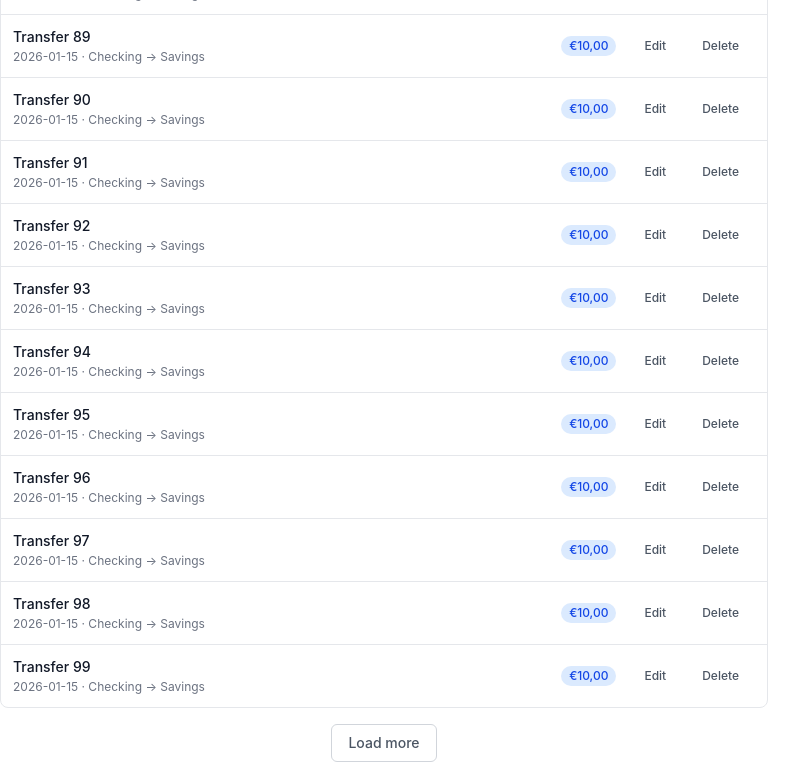
Test: TransfersPage loads additional transfer pages on demand
(page scrolled)
Check: the text "Last transfer" is not shown
Click the button "Load more". click: (384, 743)
box: 331,724 -> 436,761
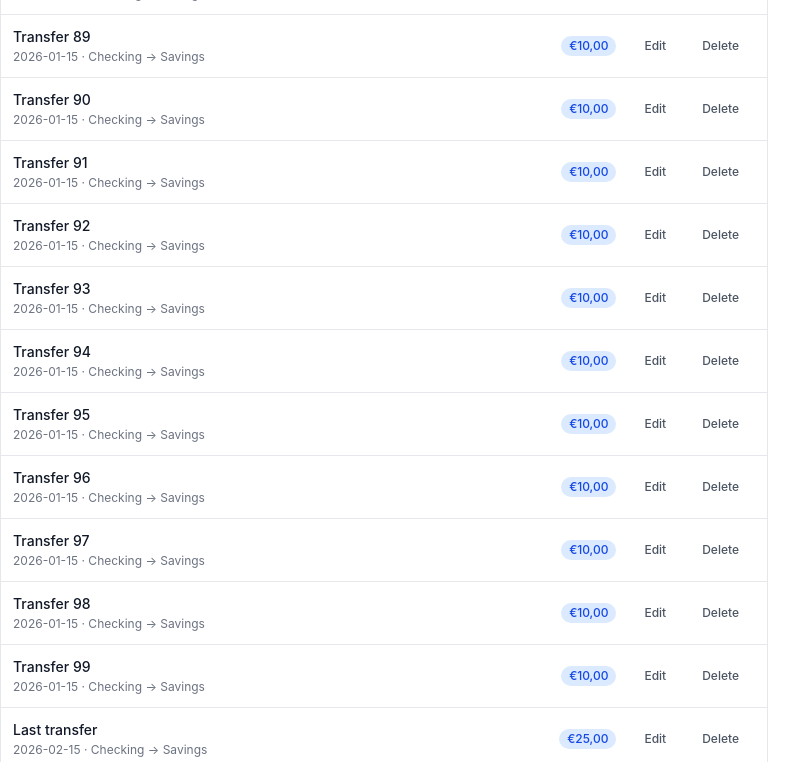
Check: the text "Last transfer" is shown, box 13,720 -> 98,740
